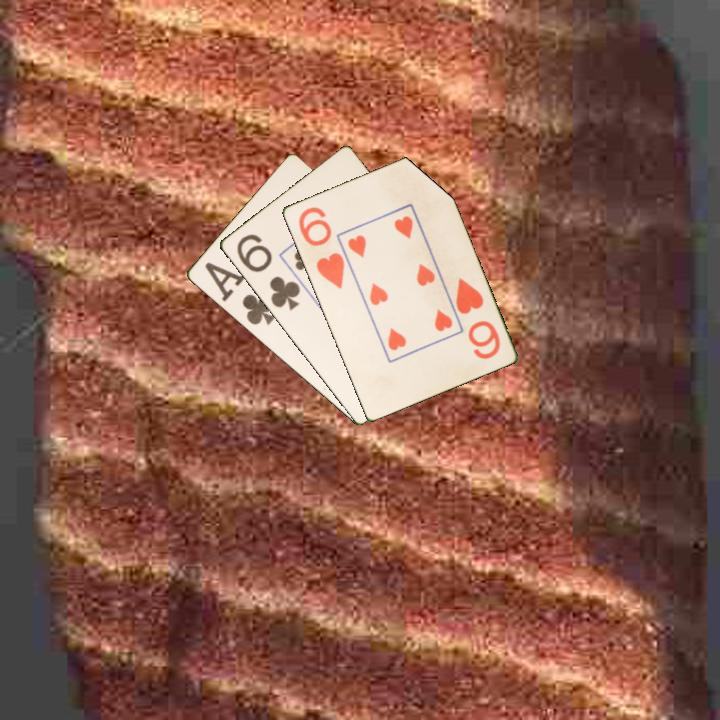6c: (232, 230, 303, 313)
6h: (294, 203, 347, 292), (451, 274, 503, 362)
Ac: (200, 258, 278, 329)
